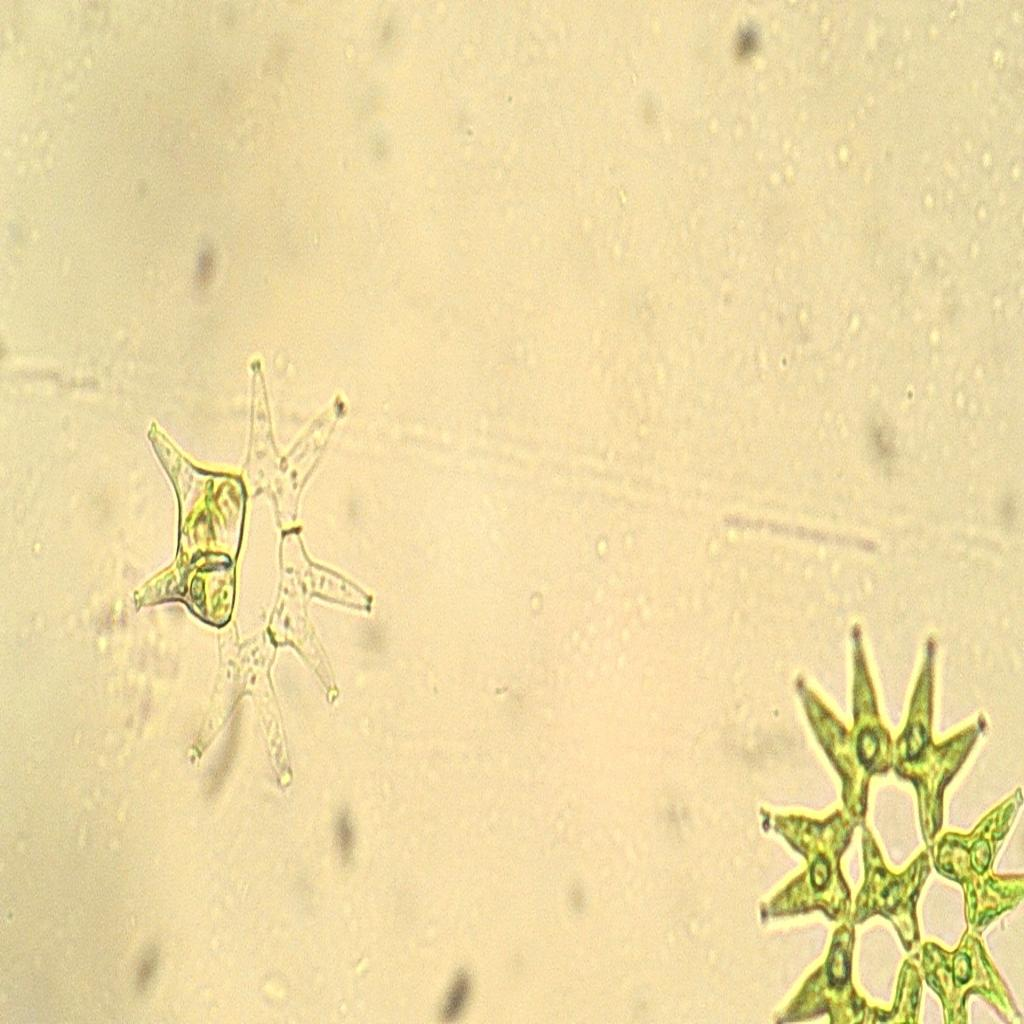Pediastrum_75TH: (106, 330, 386, 815)
